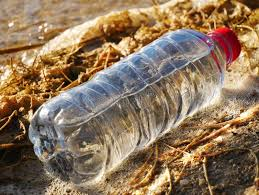Botella: (29, 29, 239, 183)
